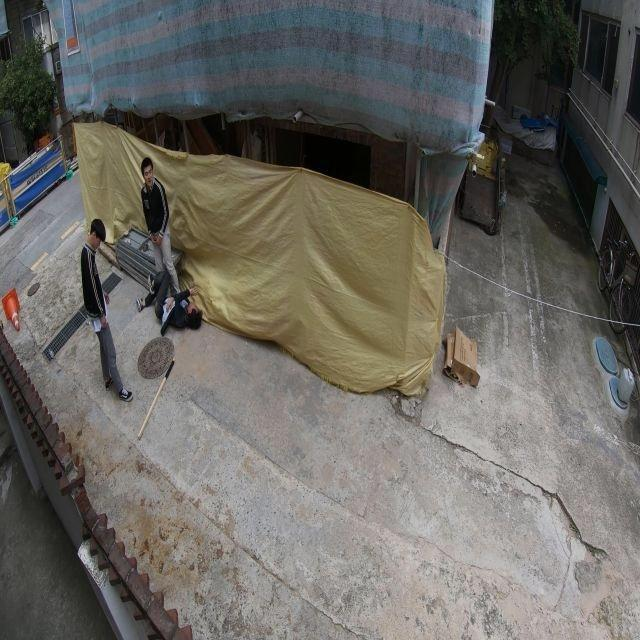fight: (136, 155, 202, 339)
non-fight: (80, 216, 129, 400)
